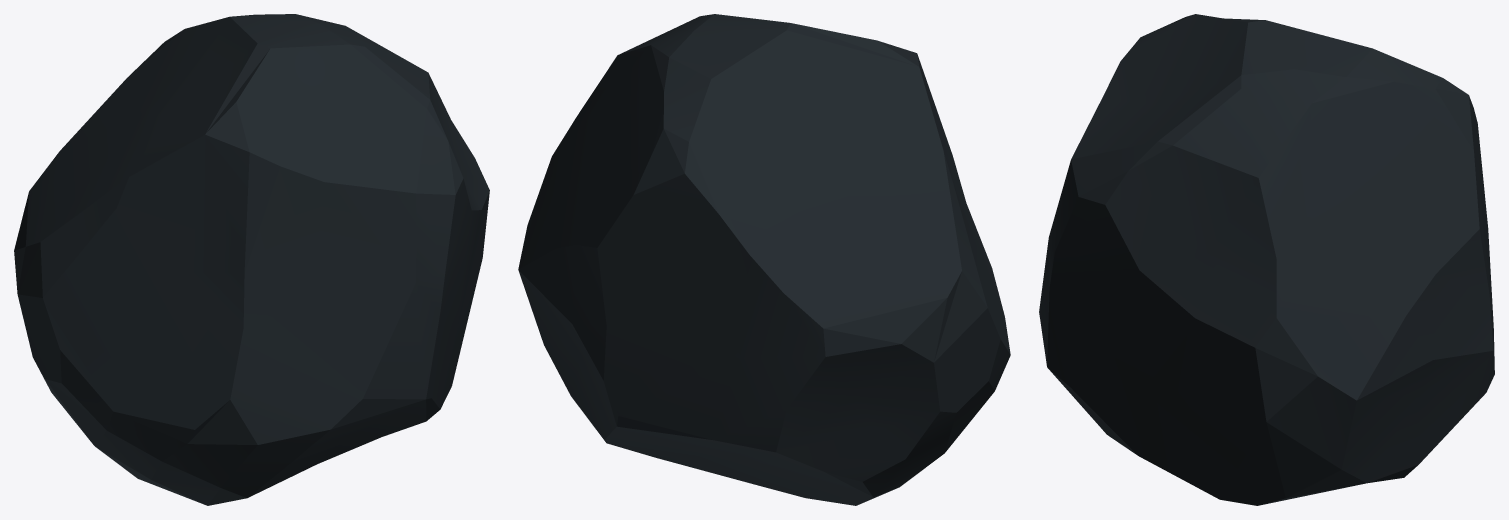
The model's file is Asteroid_s_17.FBX.
3 renders of one model, left to right at view 1: azimuth 30°, elevation 25°; view 2: azimuth 150°, elevation 25°; view 3: azimuth 270°, elevation 25°, orthographic. The views are drawn at different scales.
Parts seen in each view (by area): view 1: Asteroid_s_17; view 2: Asteroid_s_17; view 3: Asteroid_s_17.
Part boxes in pixels (x1,y1,x2,y2): Asteroid_s_17: [14, 14, 489, 505]; Asteroid_s_17: [518, 14, 1010, 505]; Asteroid_s_17: [1039, 14, 1494, 505].
Size of the model in its own units: 199 by 190 by 171.
